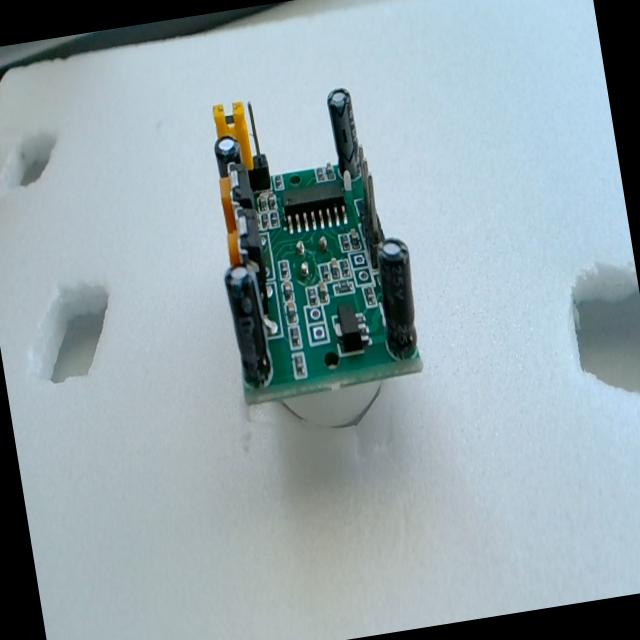Electrolytic capacitor: (371, 236, 426, 361), (222, 262, 276, 387), (325, 85, 365, 184), (212, 134, 245, 180)
IC: (281, 178, 349, 234)
pinheader: (346, 144, 390, 249)
